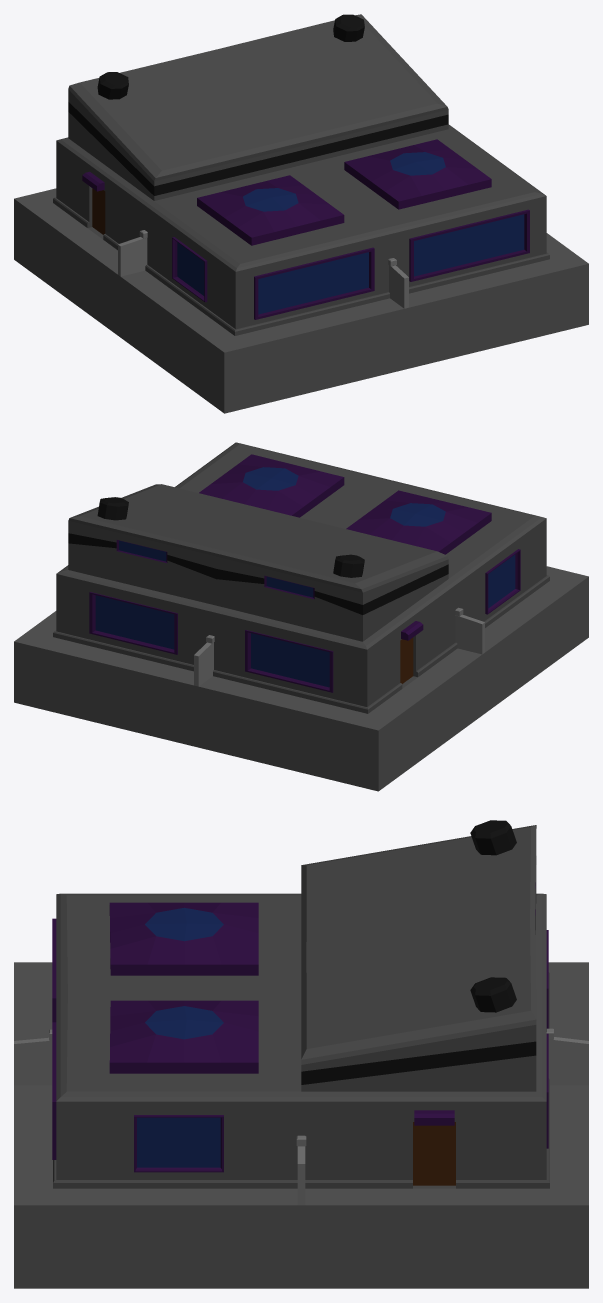
Rendered from HouseOne.fbx.
3 views of the same model, one above another, from view 1: azimuth 30°, elevation 25°; view 2: azimuth 150°, elevation 25°; view 3: azimuth 270°, elevation 25° (orthographic). The views are drawn at different scales.
Parts seen in each view (by area): view 1: Building One, WallBack, WallL; view 2: Building One, WallBack, WallR; view 3: Building One, WallR, WallL, WallFront.
Part boxes in pixels (bbox=[...]): Building One: bbox=[14, 14, 588, 413]; WallBack: bbox=[118, 230, 147, 276]; WallL: bbox=[388, 258, 408, 308]; Building One: bbox=[14, 442, 588, 791]; WallBack: bbox=[455, 607, 484, 654]; WallR: bbox=[194, 635, 214, 686]; Building One: bbox=[14, 820, 588, 1288]; WallR: bbox=[546, 1028, 588, 1085]; WallL: bbox=[14, 1029, 52, 1085]; WallFront: bbox=[296, 1135, 306, 1205].
Bounding box in the file's own units: 3750 × 3750 × 1904.
